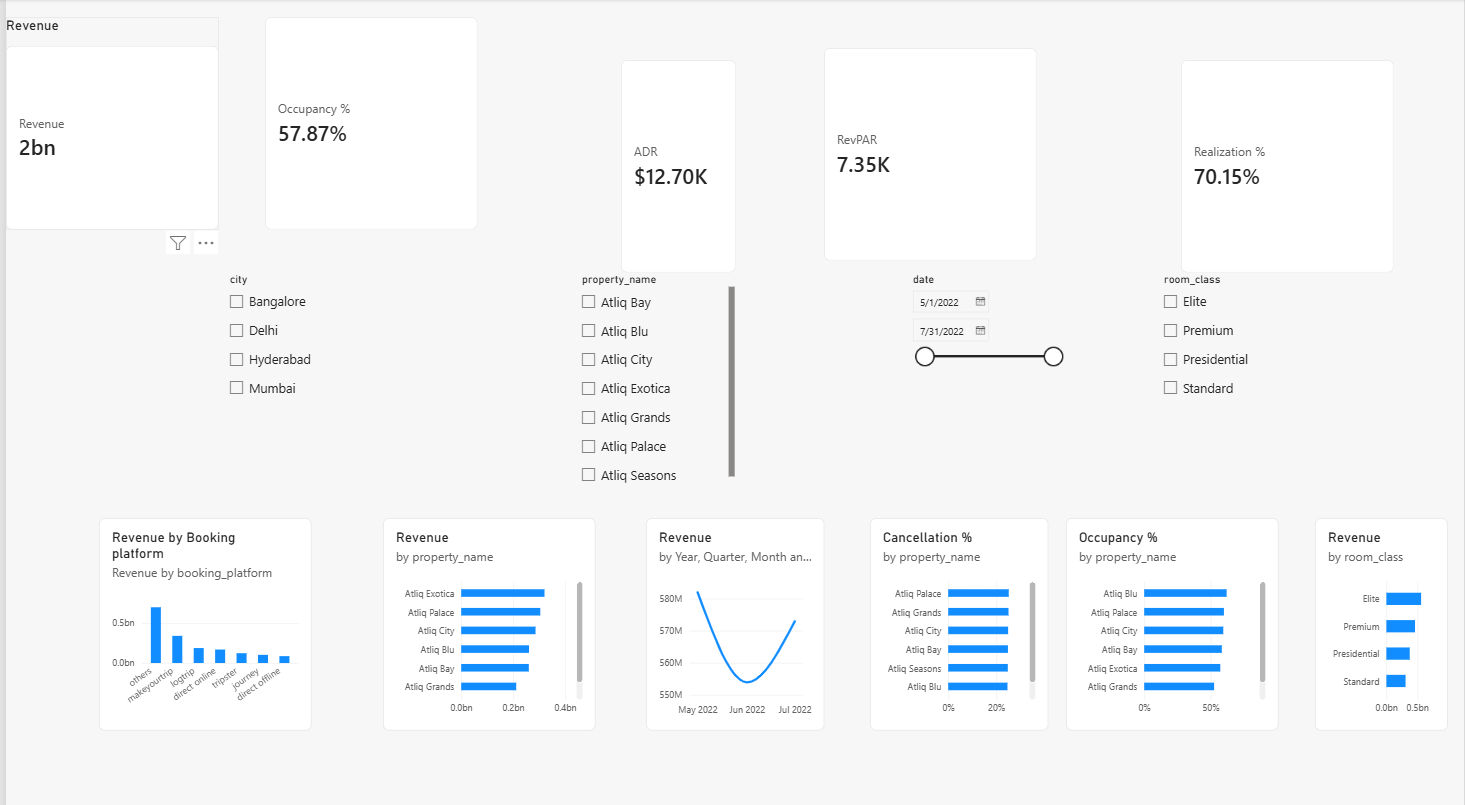

What the dashboard file says about the page in this screenshot:
{"tool":"powerbi","page":{"name":"Hotel Management Dashboard","canvas":[1920,1080],"ordinal":0},"visuals":[{"type":"cardVisual","title":"Revenue","fields":{"Data":["fact_bookings.Revenue","fact_bookings.Revenue"]},"box":[0,23.7,280,280],"z":0},{"type":"cardVisual","fields":{"Data":["fact_aggregated_bookings.Occupancy %"]},"box":[340.5,23.9,280,280],"z":1000},{"type":"cardVisual","fields":{"Data":["fact_aggregated_bookings.RevPAR"]},"box":[1077.4,64.5,280,280],"z":2000},{"type":"clusteredBarChart","fields":{"Category":["dim_hotels.property_name"],"Y":["fact_bookings.Revenue"]},"box":[496.9,683.7,280,280],"z":3000},{"type":"clusteredBarChart","fields":{"Category":["dim_hotels.property_name"],"Y":["fact_aggregated_bookings.Occupancy %"]},"box":[1396.6,683.7,280,280],"z":4000},{"type":"cardVisual","fields":{"Data":["fact_bookings.ADR"]},"box":[809.6,80.8,151,280],"z":5000},{"type":"cardVisual","fields":{"Data":["fact_bookings.Realization %"]},"box":[1547.7,80.8,280,280],"z":6000},{"type":"slicer","fields":{"Values":["dim_hotels.city"]},"box":[287.5,360.4,209,280],"z":7001},{"type":"slicer","fields":{"Values":["dim_hotels.property_name"]},"box":[751.3,360.4,209,280],"z":7002},{"type":"slicer","fields":{"Values":["dim_date.date"]},"box":[1187.2,360.4,209,280],"z":7003},{"type":"slicer","fields":{"Values":["dim_rooms.room_class"]},"box":[1517.2,360.4,235,280],"z":7004},{"type":"clusteredColumnChart","title":"Revenue by Booking platform","fields":{"Category":["fact_bookings.booking_platform"],"Y":["fact_bookings.Revenue"]},"box":[121.9,683.7,280,280],"z":7005},{"type":"lineChart","fields":{"Category":["dim_date.mmm yy.Variation.Date Hierarchy.Year","dim_date.mmm yy.Variation.Date Hierarchy.Quarter","dim_date.mmm yy.Variation.Date Hierarchy.Month","dim_date.mmm yy.Variation.Date Hierarchy.Day"],"Y":["fact_bookings.Revenue"]},"box":[842.7,683.7,235,280],"z":7006},{"type":"clusteredBarChart","fields":{"Category":["dim_rooms.room_class"],"Y":["fact_bookings.Revenue"]},"box":[1723.9,683.7,175,280],"z":7007},{"type":"clusteredBarChart","fields":{"Category":["dim_hotels.property_name"],"Y":["fact_bookings.Cancellation %"]},"box":[1138.2,683.7,235,280],"z":7008}]}

Visuals, with their boxes in screenshot pixels (x1, y1, x2, y2), scaled from the page's 1920x1080 canvas onto the 1465x805 screenshot:
"Revenue" cardVisual: region(0, 18, 214, 226)
cardVisual - fact_aggregated_bookings.Occupancy %: region(260, 18, 473, 227)
cardVisual - fact_aggregated_bookings.RevPAR: region(822, 48, 1036, 257)
clusteredBarChart - dim_hotels.property_name x fact_bookings.Revenue: region(379, 510, 593, 718)
clusteredBarChart - dim_hotels.property_name x fact_aggregated_bookings.Occupancy %: region(1066, 510, 1279, 718)
cardVisual - fact_bookings.ADR: region(618, 60, 733, 269)
cardVisual - fact_bookings.Realization %: region(1181, 60, 1395, 269)
slicer - dim_hotels.city: region(219, 269, 379, 477)
slicer - dim_hotels.property_name: region(573, 269, 733, 477)
slicer - dim_date.date: region(906, 269, 1065, 477)
slicer - dim_rooms.room_class: region(1158, 269, 1337, 477)
"Revenue by Booking platform" clusteredColumnChart: region(93, 510, 307, 718)
lineChart - dim_date.mmm yy.Variation.Date Hierarchy.Year x dim_date.mmm yy.Variation.Date Hierarchy.Quarter: region(643, 510, 822, 718)
clusteredBarChart - dim_rooms.room_class x fact_bookings.Revenue: region(1315, 510, 1449, 718)
clusteredBarChart - dim_hotels.property_name x fact_bookings.Cancellation %: region(868, 510, 1048, 718)
